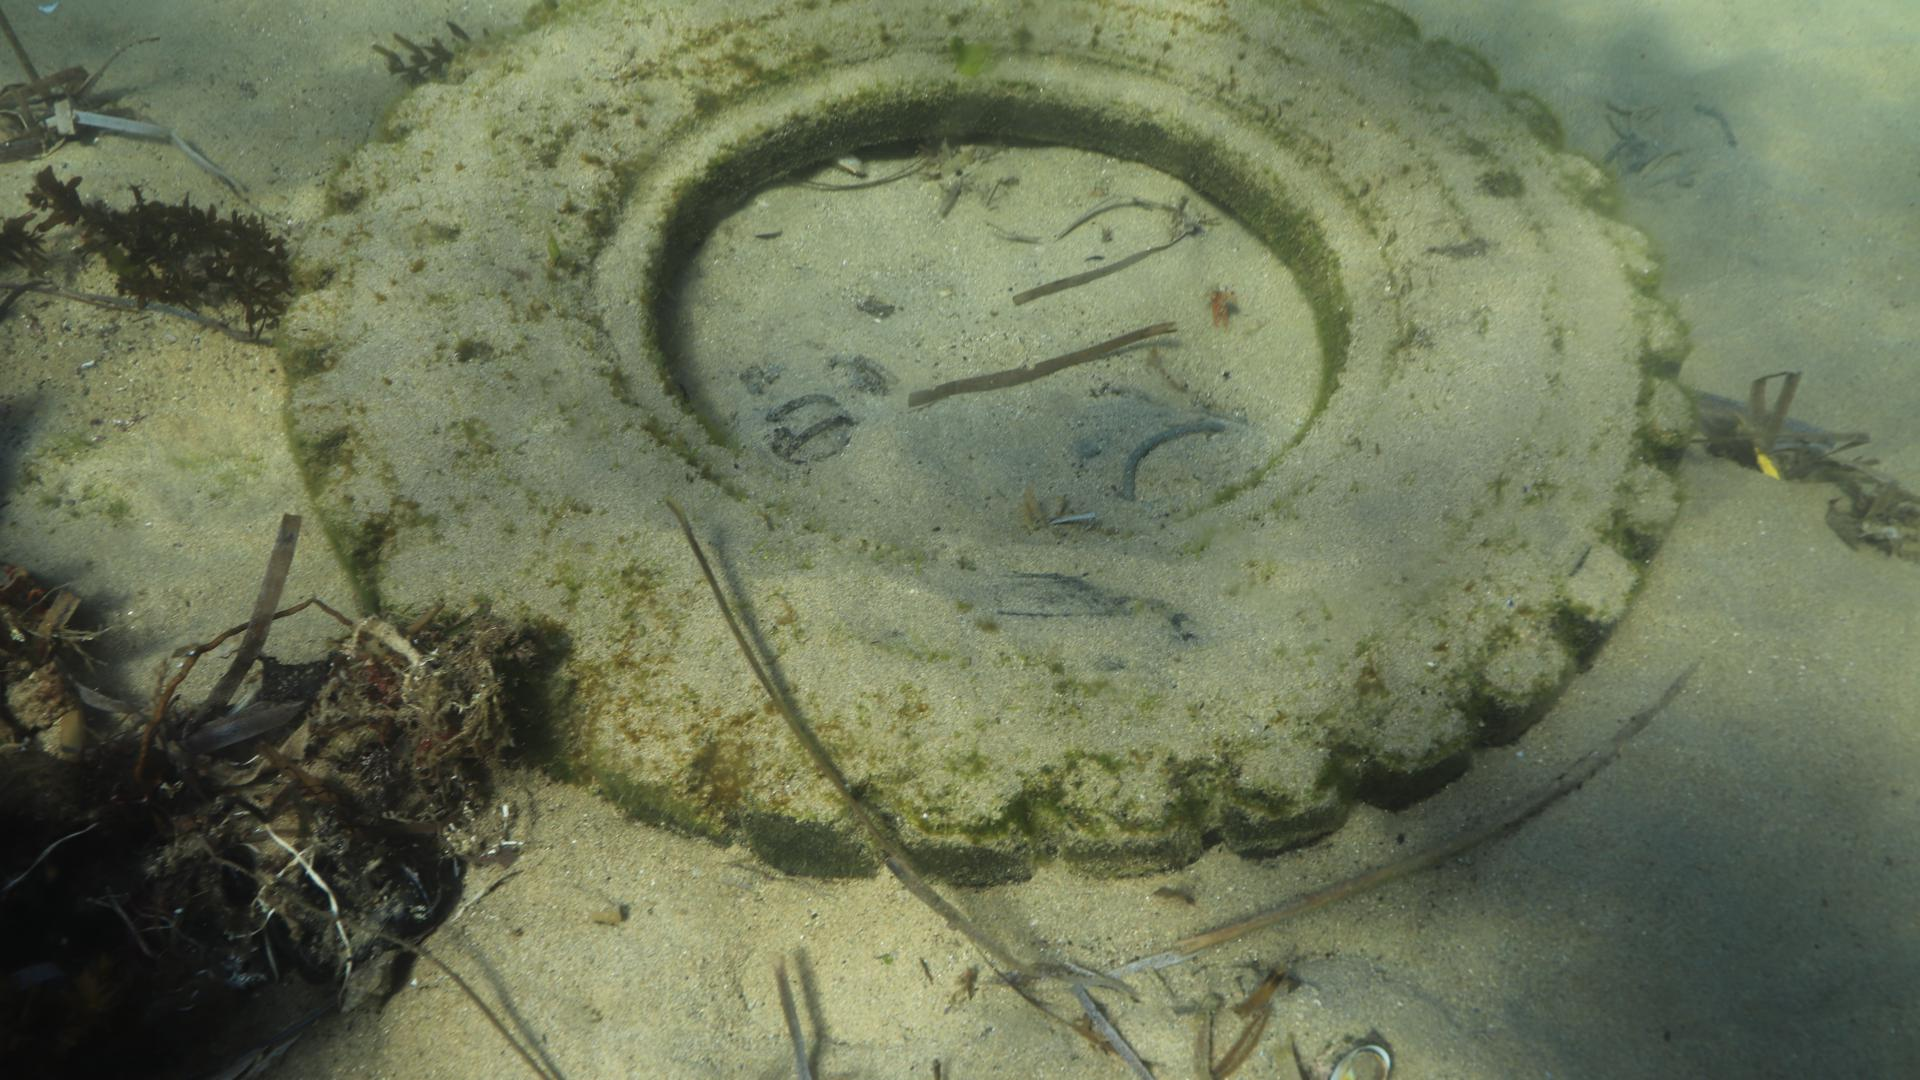tire: (276, 0, 1691, 882)
